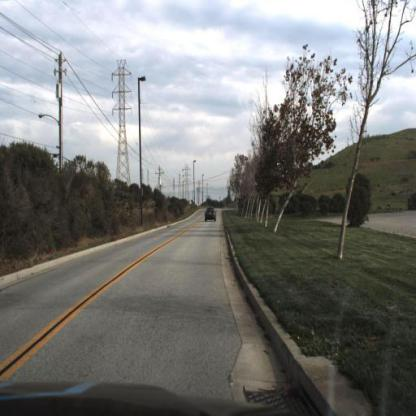car: (203, 205, 220, 224)
